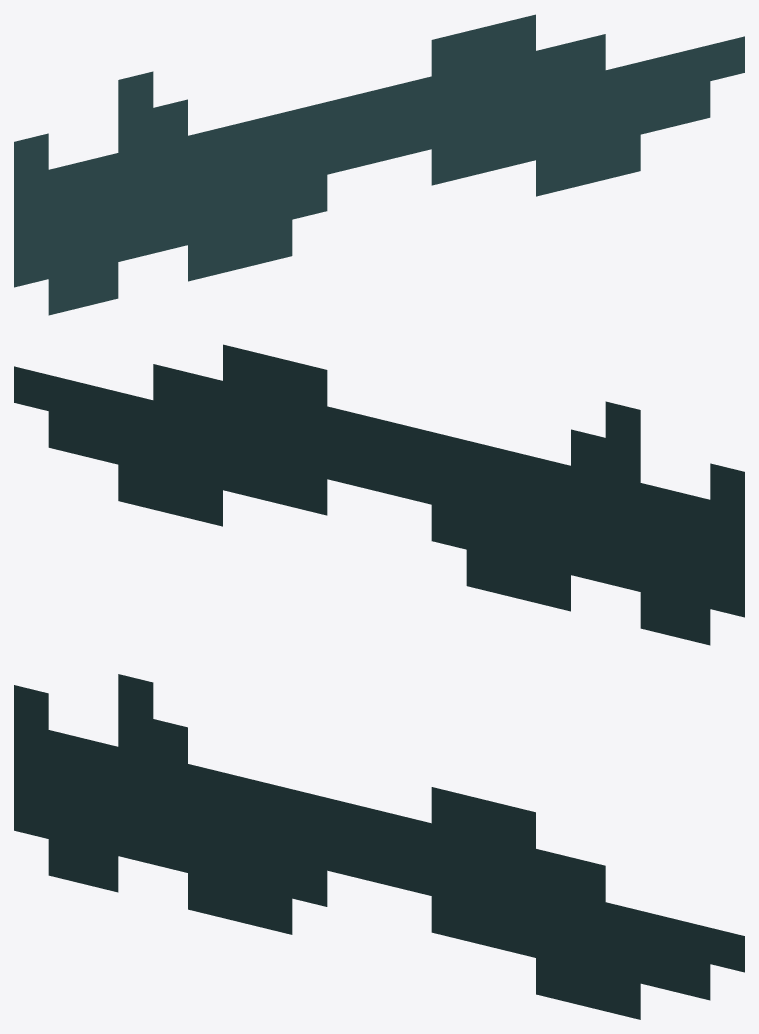
Rendered from tdr_h_wateroutside.obj.
The picture shows the model from 3 angles, top to bottom: view 1: azimuth 30°, elevation 25°; view 2: azimuth 150°, elevation 25°; view 3: azimuth 330°, elevation 25°; orthographic projection.
Visible parts, largest first — view 1: Default_TRLE_Floor.012_Cube.013; view 2: Default_TRLE_Floor.012_Cube.013; view 3: Default_TRLE_Floor.012_Cube.013.
Boxes of the visible parts, x1,y1,x2,y2 form: Default_TRLE_Floor.012_Cube.013: (14, 14, 744, 315); Default_TRLE_Floor.012_Cube.013: (14, 344, 744, 645); Default_TRLE_Floor.012_Cube.013: (14, 674, 744, 1019).
Size of the model in its own units: 21504 by 6144 by 0.
1 material, 1 textured.
